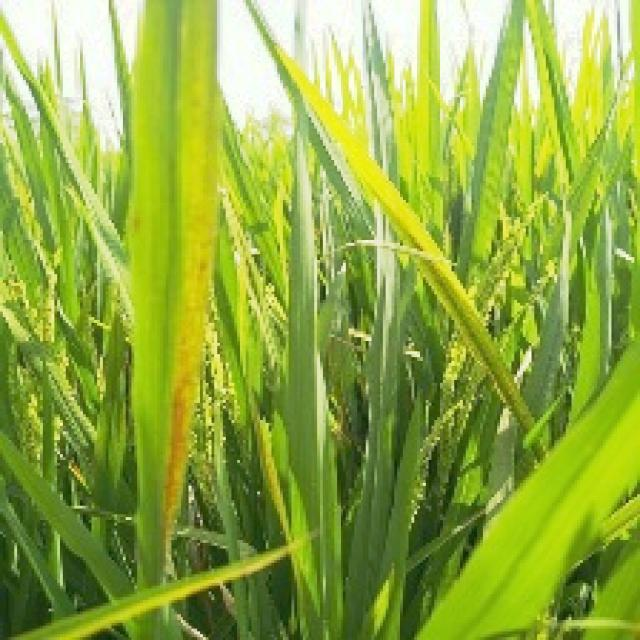-: (287, 454, 640, 640)
